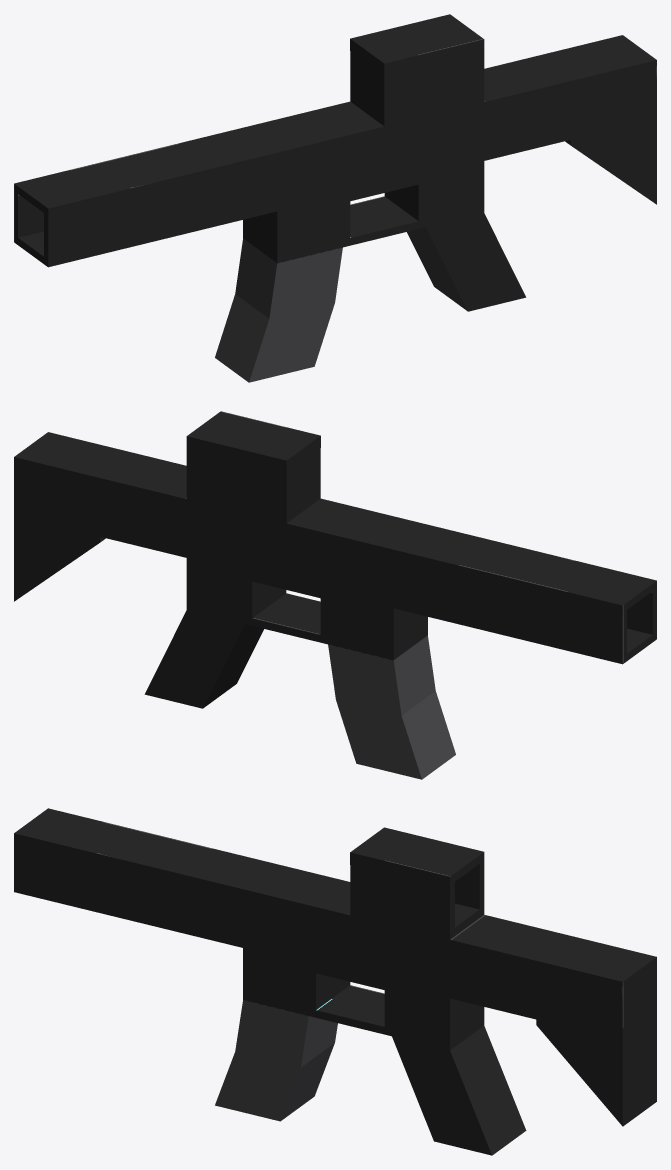
The model's file is rifle (2022_01_20 22_30_44 UTC).fbx.
The picture shows the model from 3 angles, top to bottom: view 1: azimuth 30°, elevation 25°; view 2: azimuth 150°, elevation 25°; view 3: azimuth 330°, elevation 25°; orthographic projection.
Parts seen in each view (by area): view 1: Cube; view 2: Cube; view 3: Cube.
Boxes of the visible parts, bbox=[...] form: Cube: bbox=[14, 14, 656, 382]; Cube: bbox=[14, 411, 656, 779]; Cube: bbox=[14, 808, 656, 1155].
Size of the model in its own units: 438 by 197 by 42.57.
Materials: 1 (1 with a texture image).
